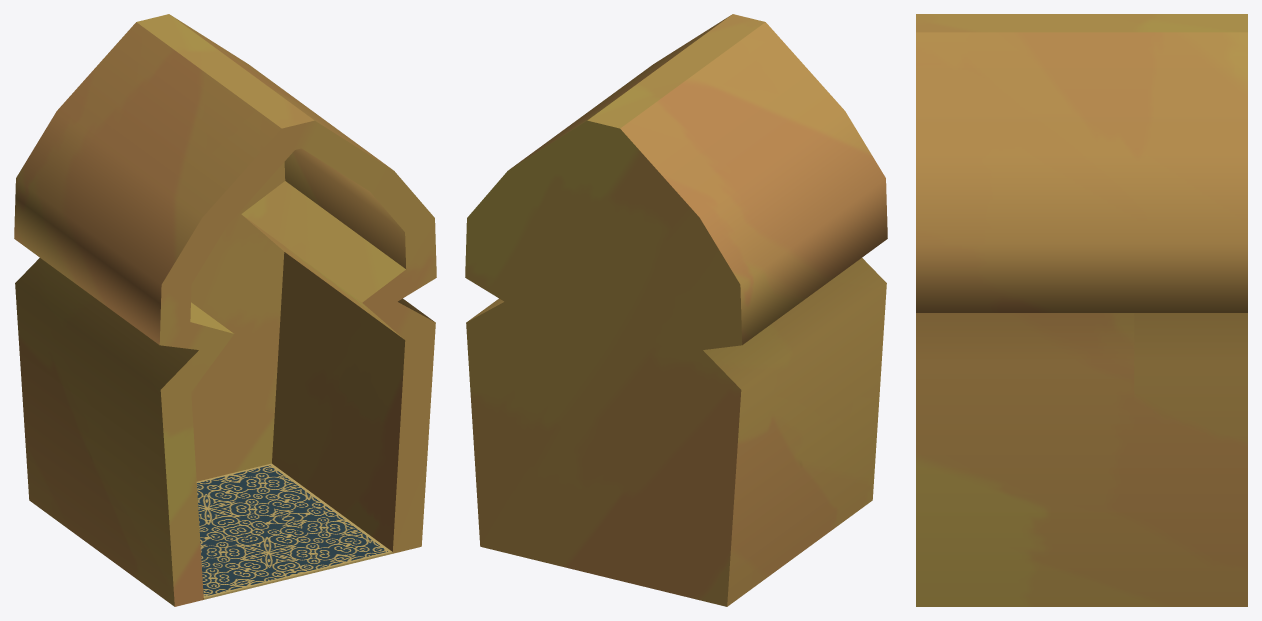
The model's file is spawn_zone.fbx.
3 views of the same model, side by side, from view 1: azimuth 30°, elevation 25°; view 2: azimuth 150°, elevation 25°; view 3: azimuth 270°, elevation 25° (orthographic). The views are drawn at different scales.
Parts seen in each view (by area): view 1: SpawnZone; view 2: SpawnZone; view 3: SpawnZone.
Boxes of the visible parts, box(x1,y1,x2,y2) form: SpawnZone: box(14, 14, 436, 606); SpawnZone: box(465, 14, 887, 606); SpawnZone: box(916, 14, 1247, 606).
Size of the model in its own units: 221 by 345 by 201.
